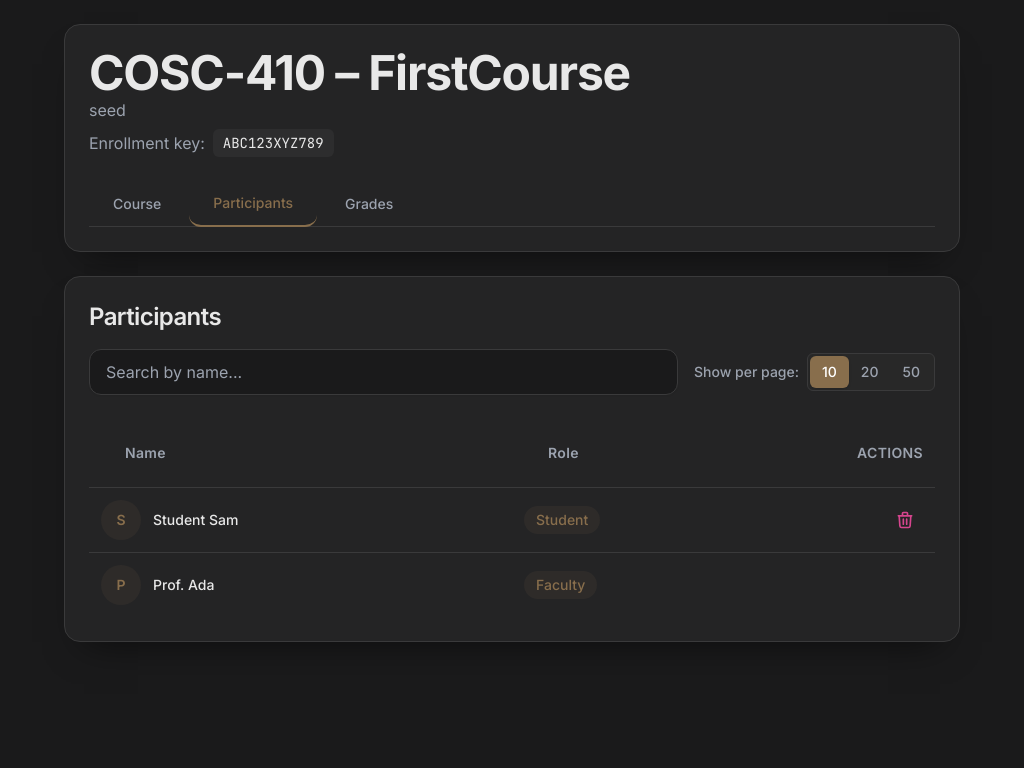
it: CoursePage › tab switching preserves state
The image size is (1024, 768).
Check: the heading "COSC-410 – FirstCourse" is shown, box [89, 43, 630, 102]
# Switch to participants tab
Step 1. Click the tab "participants" → coordinates (253, 204), box [189, 181, 317, 227]
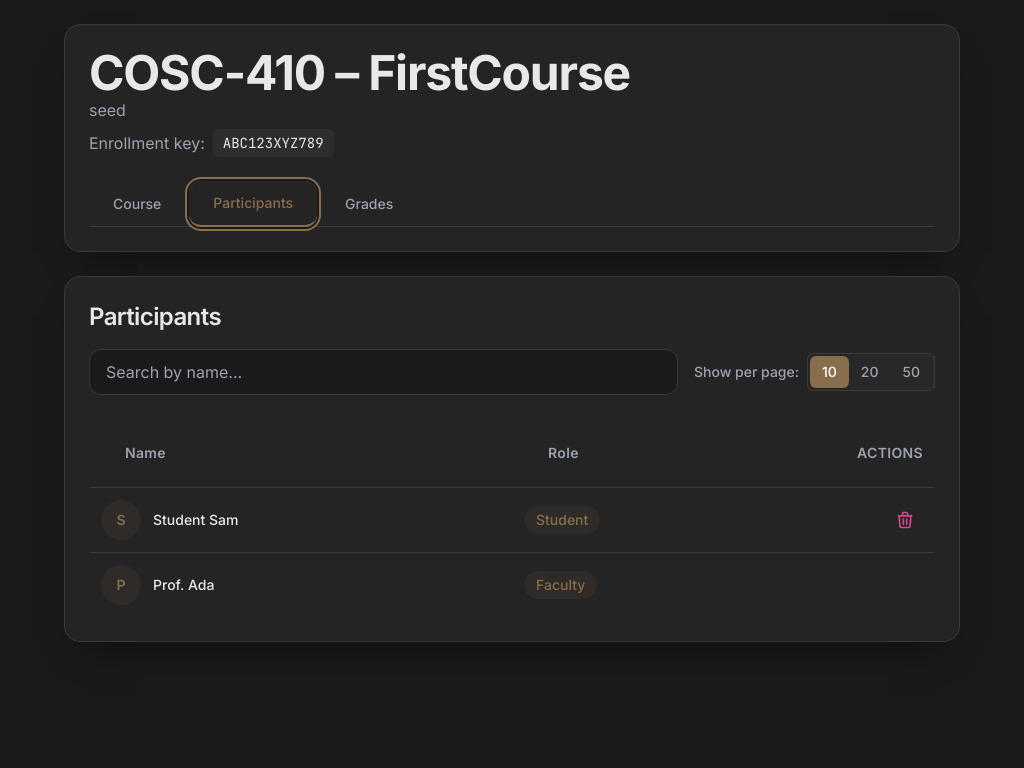
# Switch back to course tab
Step 2. Click the tab "course" → coordinates (137, 204), box [89, 181, 185, 226]
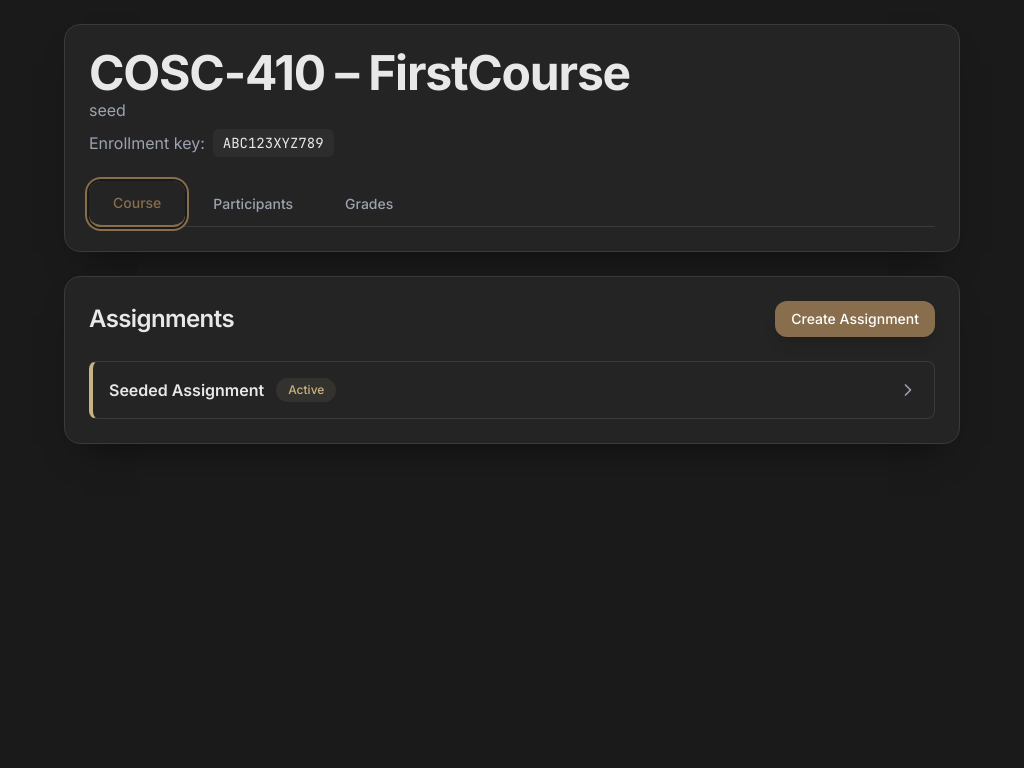
Check: the heading "COSC-410 – FirstCourse" is shown, box [89, 43, 630, 102]
Check: the heading "Seeded Assignment" is shown, box [109, 378, 264, 402]
